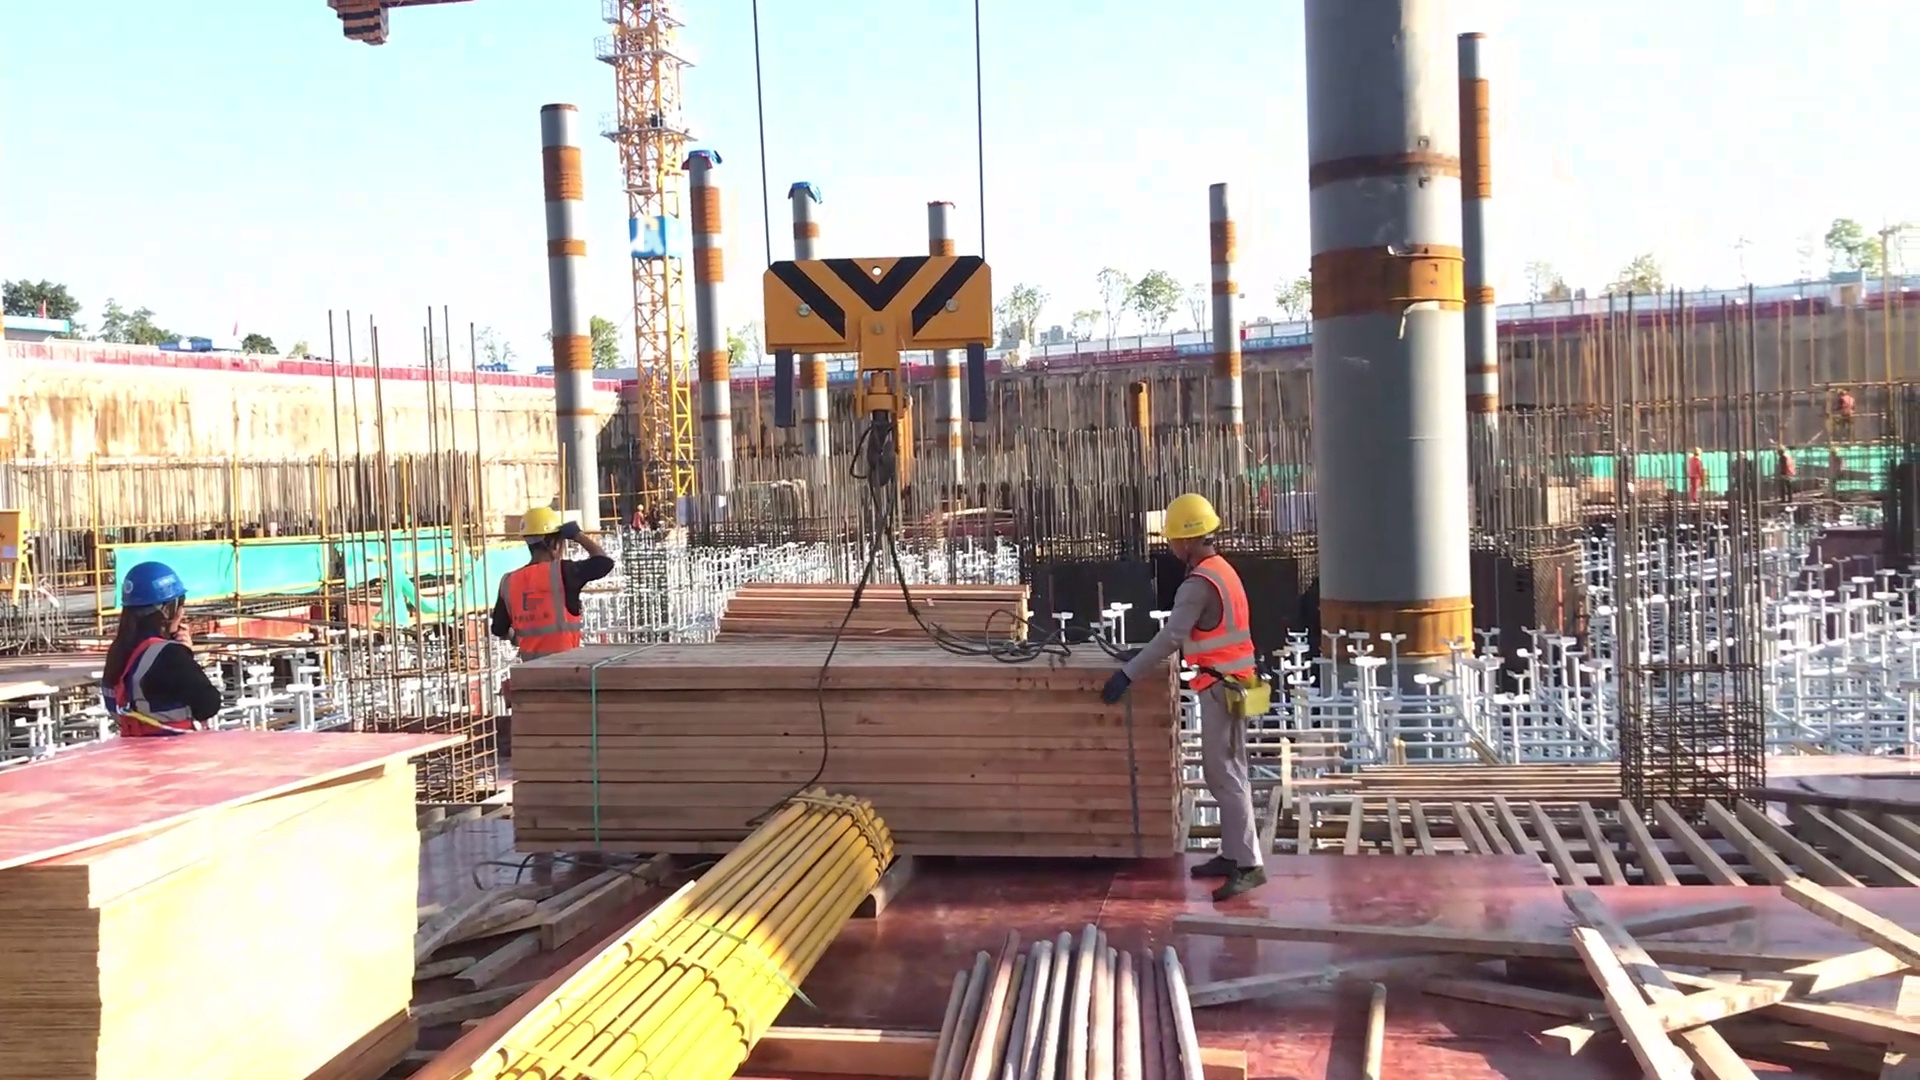board: (9, 719, 465, 1080)
ebox: (1, 510, 43, 586)
helmet: (1136, 474, 1240, 554), (111, 564, 205, 623), (514, 506, 599, 559)
hook: (755, 250, 1004, 484)
person: (1102, 483, 1281, 885), (473, 487, 613, 677), (93, 558, 215, 749)
rebar: (921, 926, 1219, 1080)
vest: (1178, 557, 1267, 691), (98, 633, 204, 735), (500, 561, 581, 649)
wood: (489, 635, 1189, 885)
